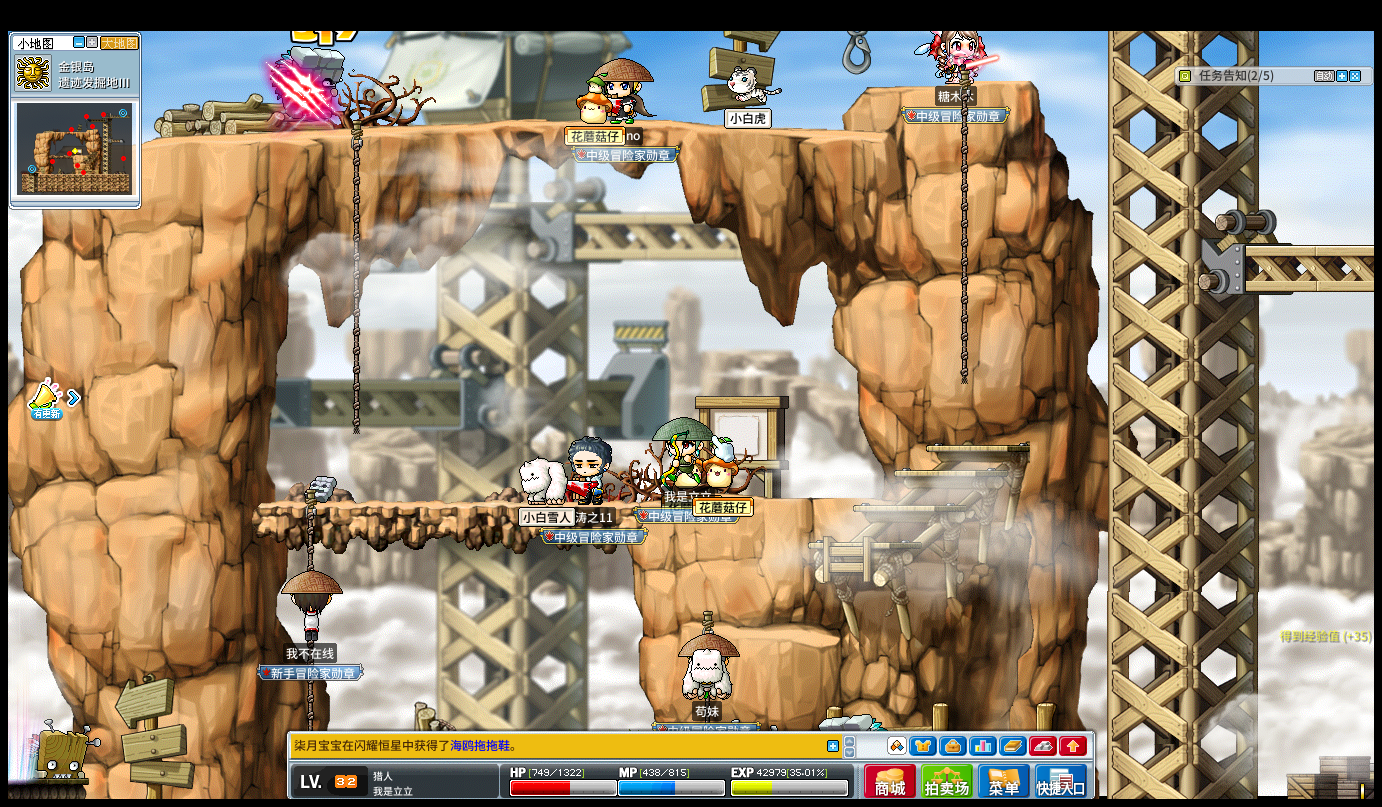floor: (129, 114, 886, 145), (253, 498, 612, 511), (1240, 239, 1377, 258), (733, 624, 839, 647), (864, 80, 1042, 93), (863, 77, 1038, 90), (892, 464, 1006, 477), (854, 503, 966, 516), (753, 495, 890, 504), (805, 540, 922, 550), (859, 503, 972, 512), (925, 443, 1030, 452)
monster: (275, 44, 344, 129), (25, 723, 93, 788)
rope: (956, 79, 970, 394), (349, 115, 361, 437), (956, 204, 969, 387), (301, 489, 314, 570), (302, 679, 313, 730)
